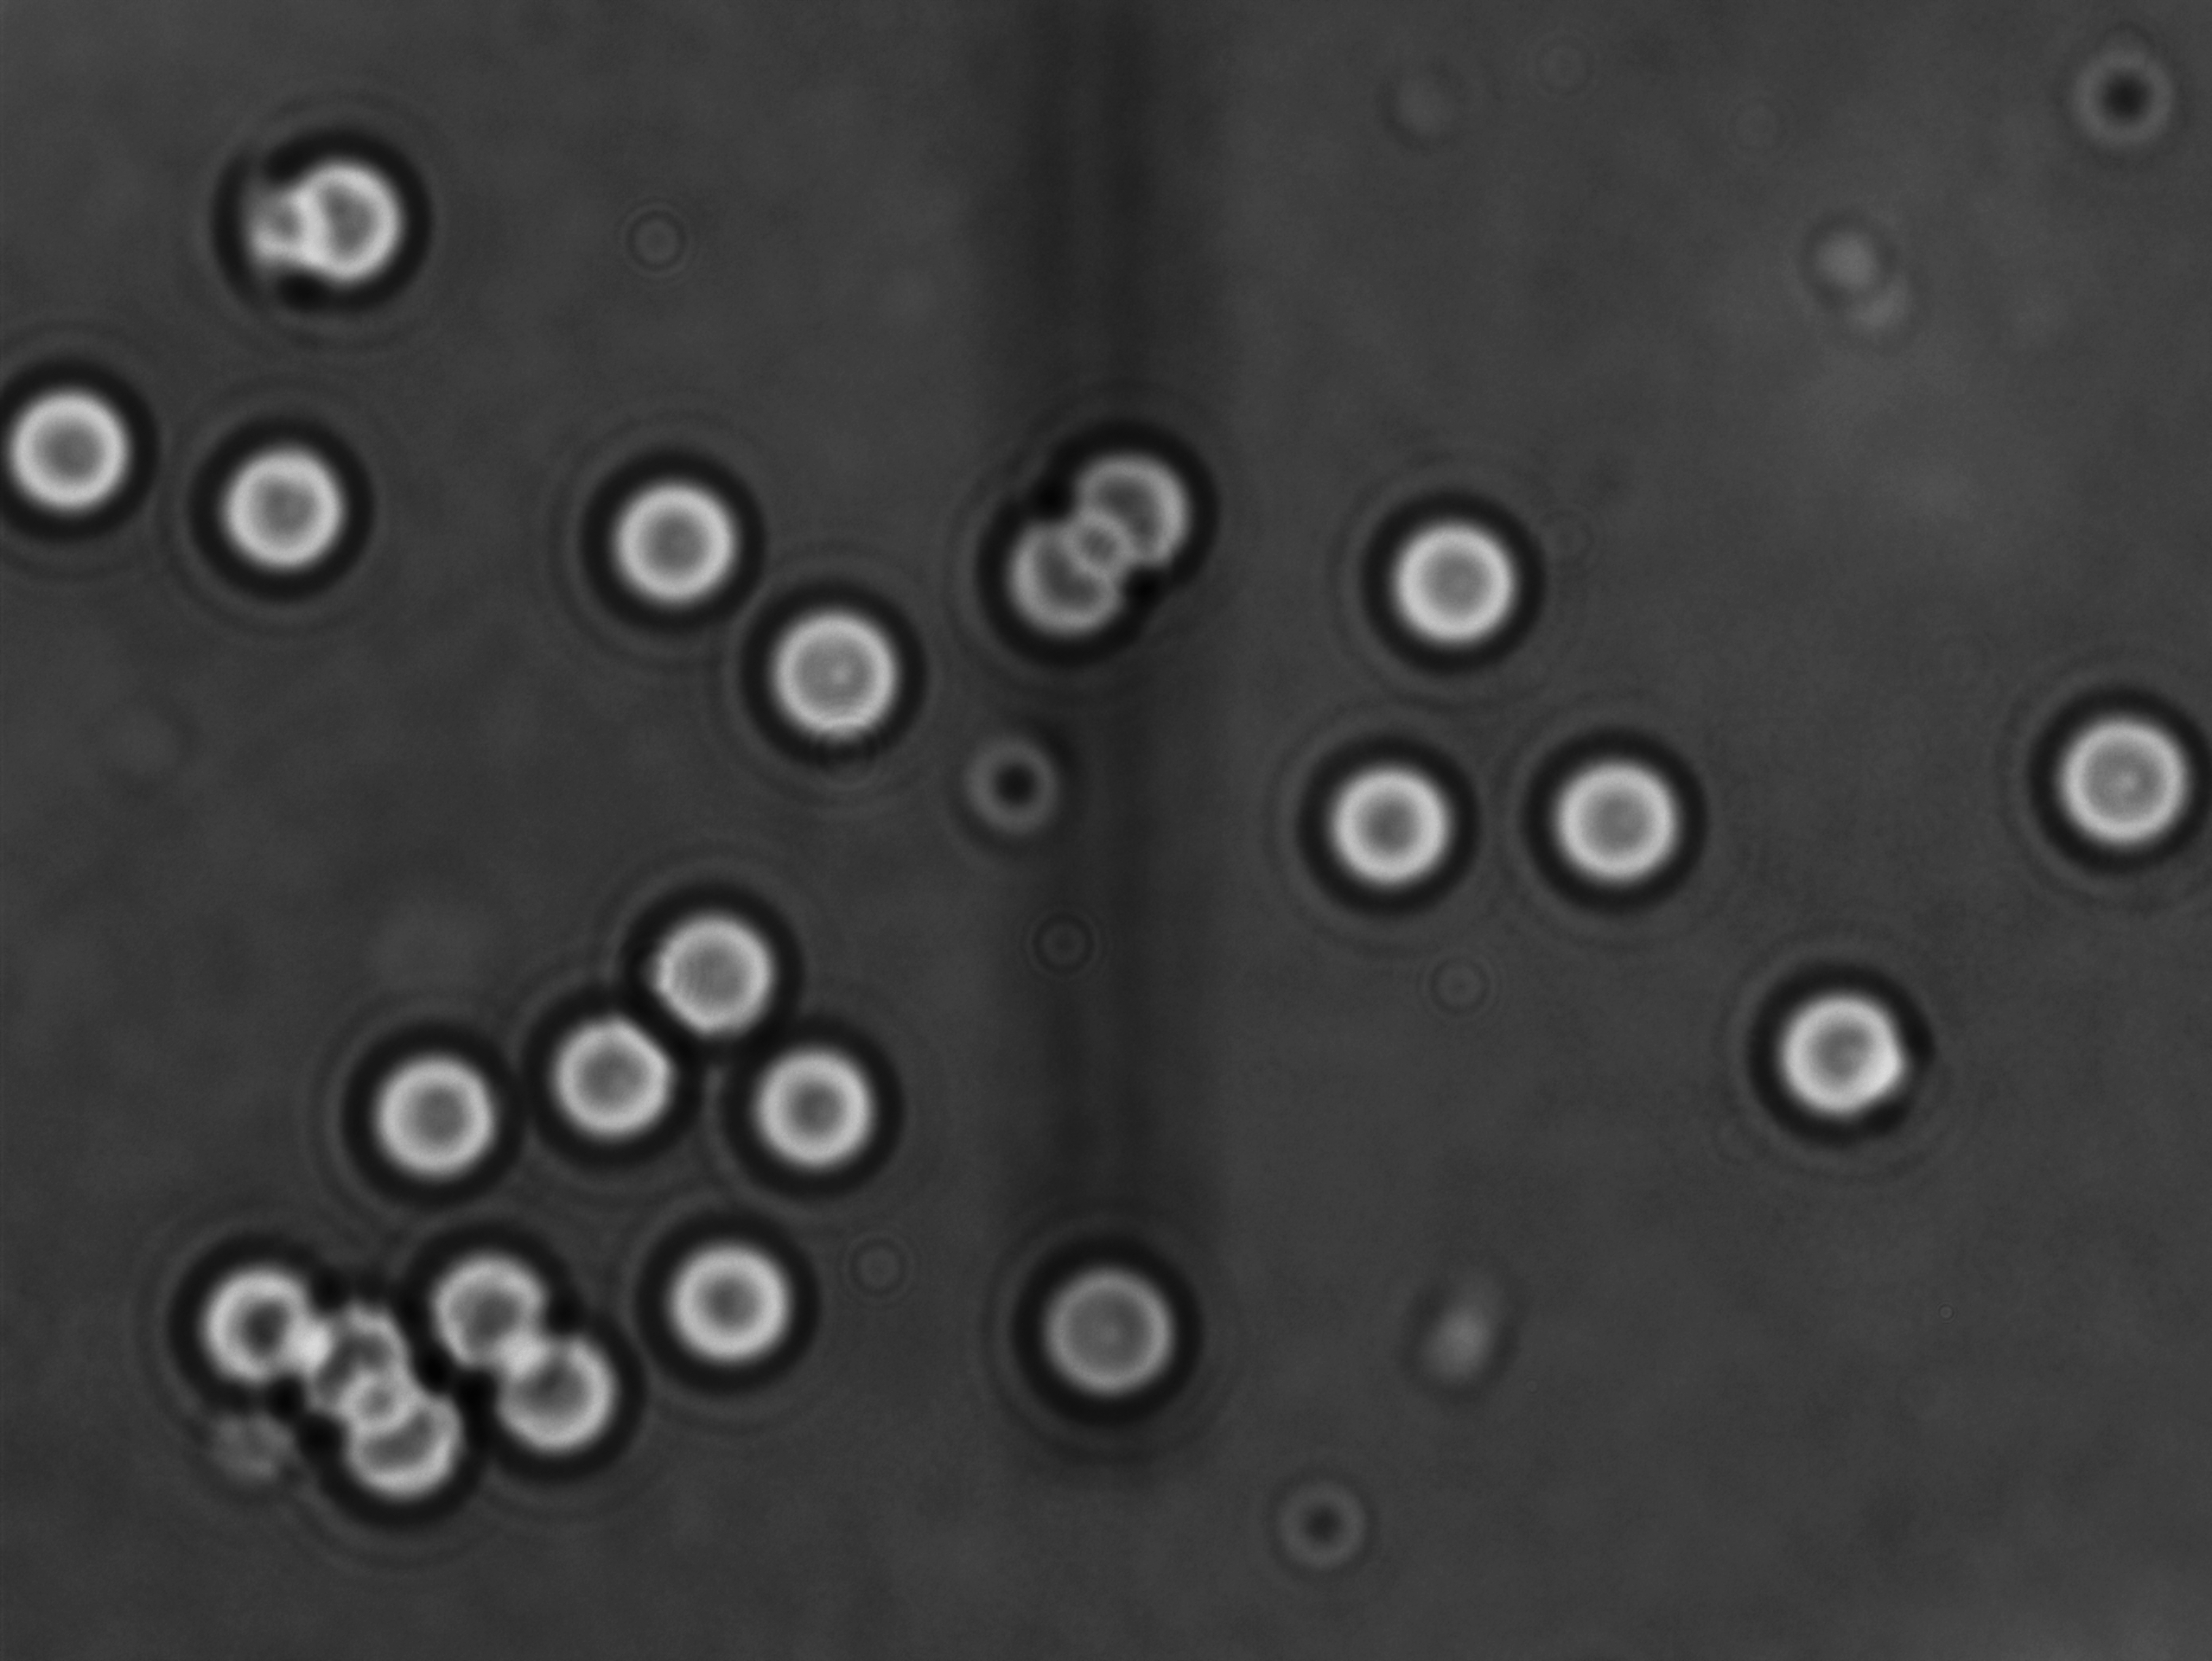depth:60: (710, 546, 946, 769), (550, 434, 766, 653), (1354, 473, 1561, 696), (1287, 710, 1505, 919), (632, 1186, 836, 1410), (513, 953, 710, 1179), (1509, 707, 1724, 914), (2020, 660, 2212, 892), (982, 1234, 1195, 1434), (609, 857, 818, 1052), (726, 1001, 925, 1197), (173, 419, 382, 604), (1734, 961, 1938, 1148), (319, 1017, 523, 1195), (167, 1214, 345, 1408), (398, 1209, 567, 1384)
